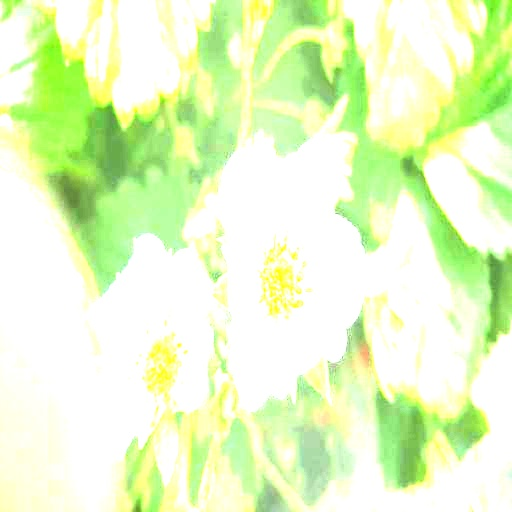Blossom Blight: (122, 302, 194, 420)
